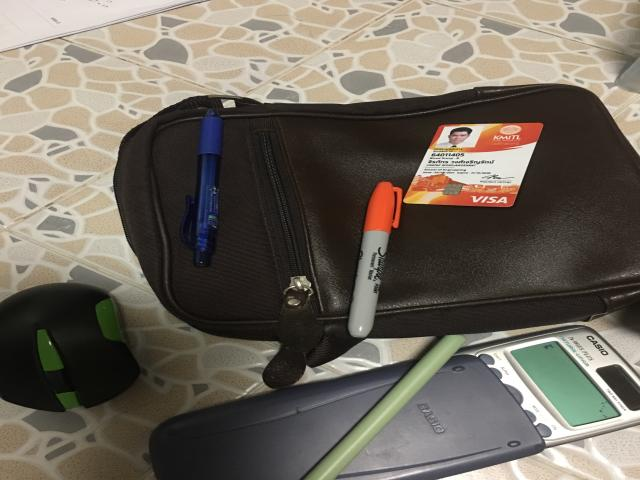Mouse: (0, 283, 140, 412)
Pen: (348, 182, 403, 338), (180, 109, 223, 267)
